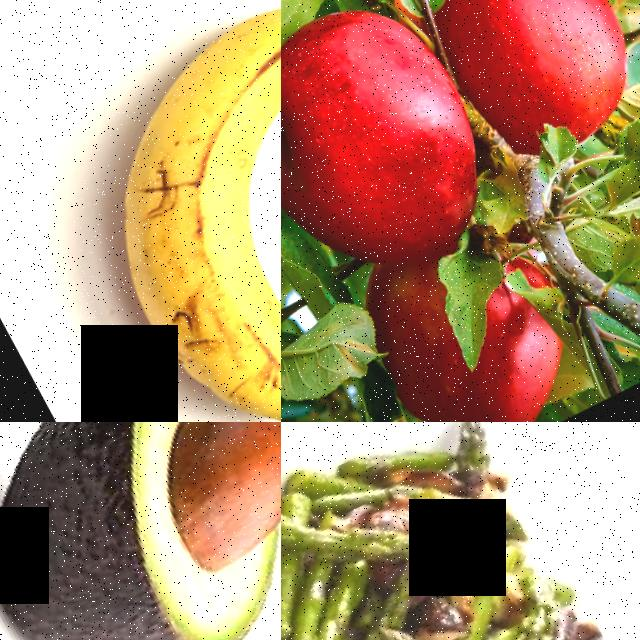apple: (281, 0, 510, 311), (315, 188, 610, 422), (390, 0, 640, 196)
avocado: (0, 422, 281, 640), (0, 422, 281, 500)
banana: (0, 0, 281, 422)
